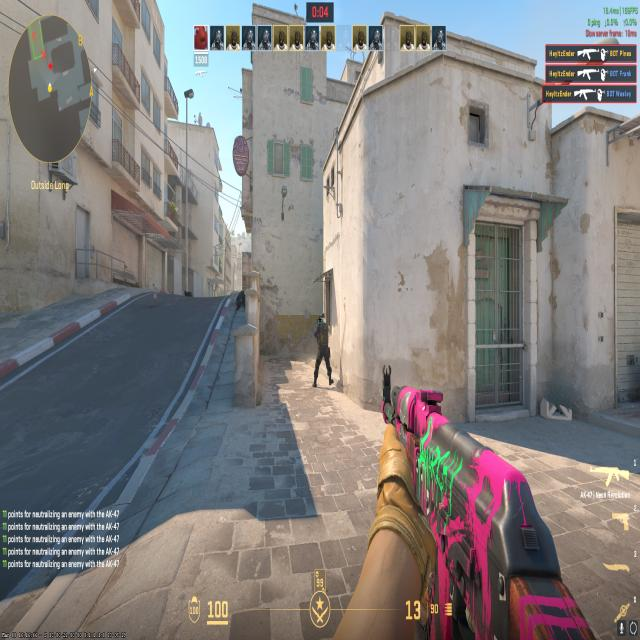ct: (306, 302, 338, 390)
